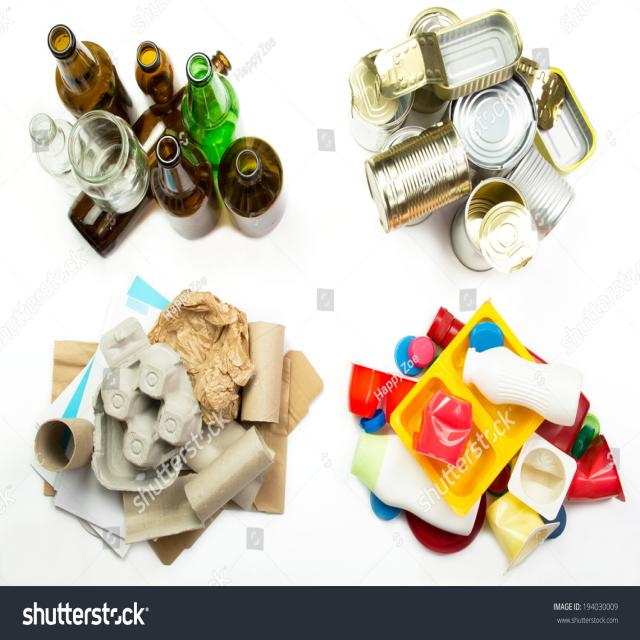cardboard: (53, 304, 316, 552)
glass: (61, 42, 264, 240)
metal: (365, 25, 577, 264)
plastic: (378, 312, 605, 555)
